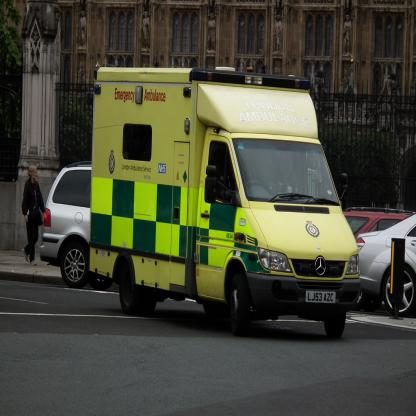Ambulance: (89, 62, 362, 334)
